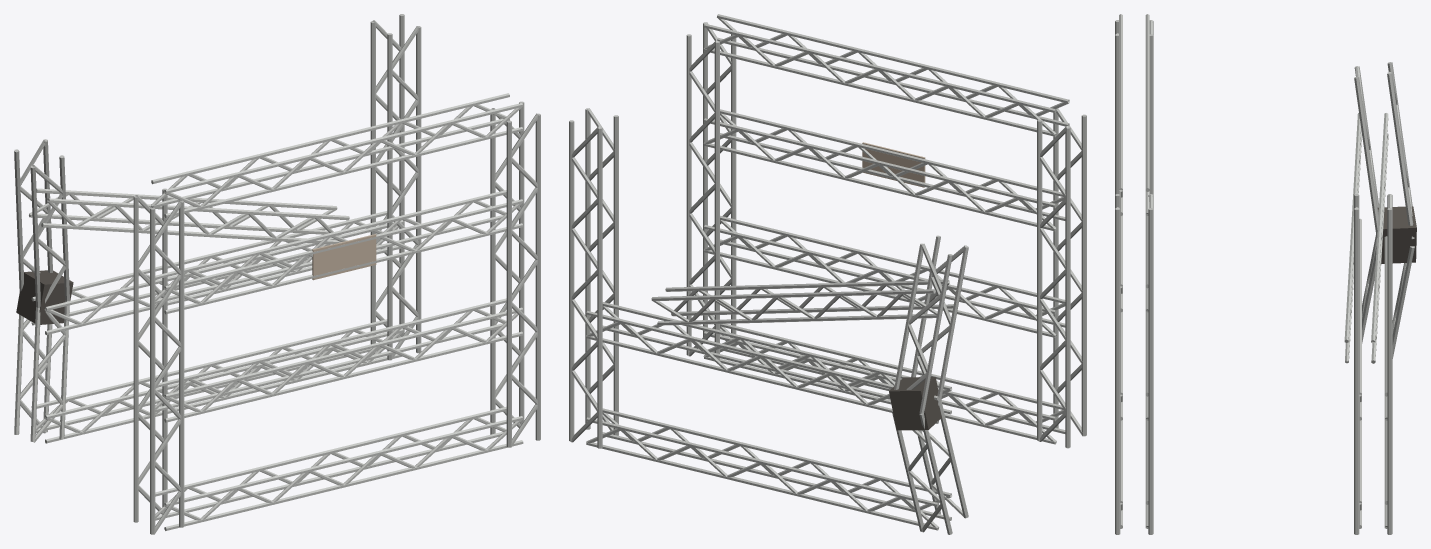
File: container_rack_abandoned.glb
3 views of the same model, side by side, from view 1: azimuth 30°, elevation 25°; view 2: azimuth 150°, elevation 25°; view 3: azimuth 270°, elevation 25° (orthographic).
Visible parts, largest first — view 1: leg_as, leg_fs, rail_s_crown, rail_s-3, rail_s0, leg_fp, rail_s_top, rail_p-3, rail_fallen, rail_p0, leg_ap_hi, leg_ap_lo (+2 smaller); view 2: leg_as, leg_fp, rail_s_crown, rail_s_top, rail_p-3, leg_fs, rail_p0, rail_s0, rail_fallen, rail_s-3, leg_ap_hi, leg_ap_lo (+2 smaller); view 3: leg_fp, leg_fs, rail_fallen, leg_ap_hi, rail_s_crown, leg_as, scorch, leg_ap_lo, rail_p0, rail_s0, rail_p-3, rail_s-3 (+1 smaller).
Boxes of the visible parts, x1,y1,x2,y2 form: leg_as: (133,188,184,534); leg_fs: (490,101,540,447); rail_s_crown: (151,93,523,217); rail_s-3: (155,406,523,530); rail_s0: (155,298,523,422); leg_fp: (370,14,421,360); rail_s_top: (155,190,523,314); rail_p-3: (31,319,403,443); rail_fallen: (29,188,349,244); rail_p0: (31,211,403,334); leg_ap_hi: (14,139,69,307); leg_ap_lo: (14,300,69,442); leg_as: (1037,108,1086,448); leg_fp: (569,108,618,448); rail_s_crown: (703,14,1069,136); rail_s_top: (703,109,1065,231); rail_p-3: (586,408,952,530); leg_fs: (686,22,736,360); rail_p0: (586,302,952,423); rail_s0: (703,215,1065,337); rail_fallen: (651,280,953,325); rail_s-3: (703,323,1065,444); leg_ap_hi: (894,235,968,413); leg_ap_lo: (892,397,968,534); leg_fp: (1354,194,1392,534); leg_fs: (1115,194,1153,534); rail_fallen: (1344,113,1388,363); leg_ap_hi: (1354,62,1414,239); rail_s_crown: (1119,14,1149,215); leg_as: (1115,20,1153,194); scorch: (1377,206,1416,263); leg_ap_lo: (1362,234,1414,358); rail_p0: (1359,218,1387,420); rail_s0: (1120,311,1148,420); rail_p-3: (1359,420,1387,528); rail_s-3: (1120,420,1148,528).
Bounding box in the file's own units: 13.54 × 11.46 × 9.09.
